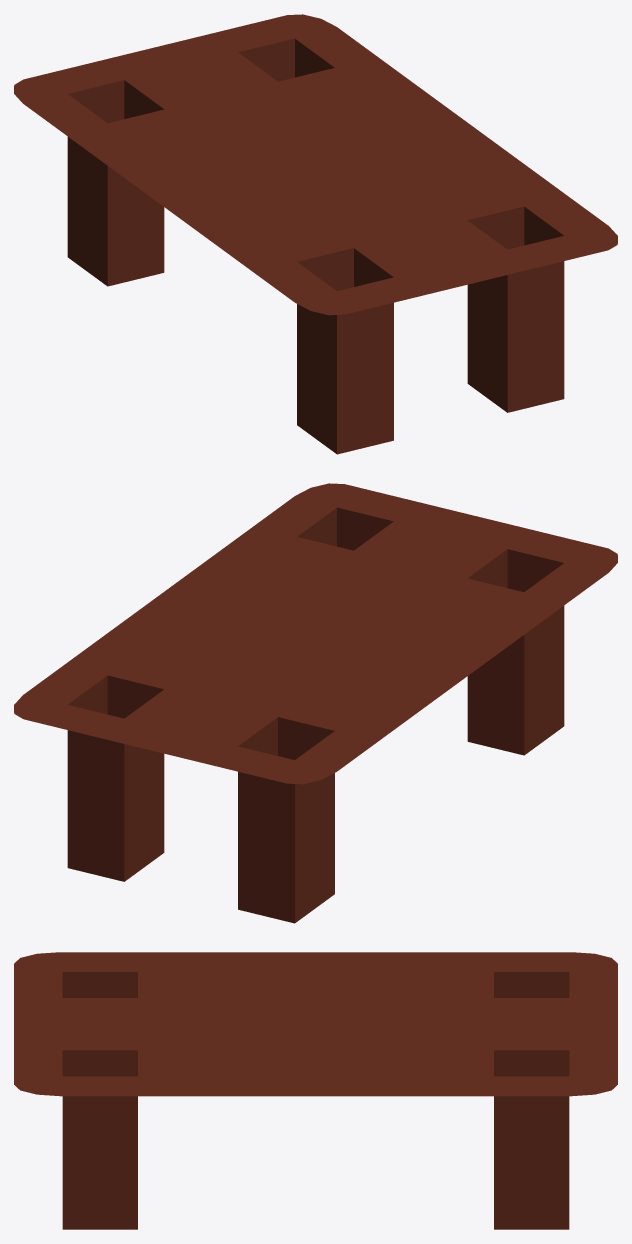
File: Mesa.fbx
3 views of the same model, one above another, from view 1: azimuth 30°, elevation 25°; view 2: azimuth 150°, elevation 25°; view 3: azimuth 270°, elevation 25° (orthographic). The views are drawn at different scales.
Visible parts, largest first — view 1: Mesa; view 2: Mesa; view 3: Mesa.
Part boxes in pixels (<box>): Mesa: <box>14,14,617,454</box>; Mesa: <box>14,483,617,923</box>; Mesa: <box>14,952,617,1229</box>.
Bounding box in the file's own units: 325 × 161 × 575.
